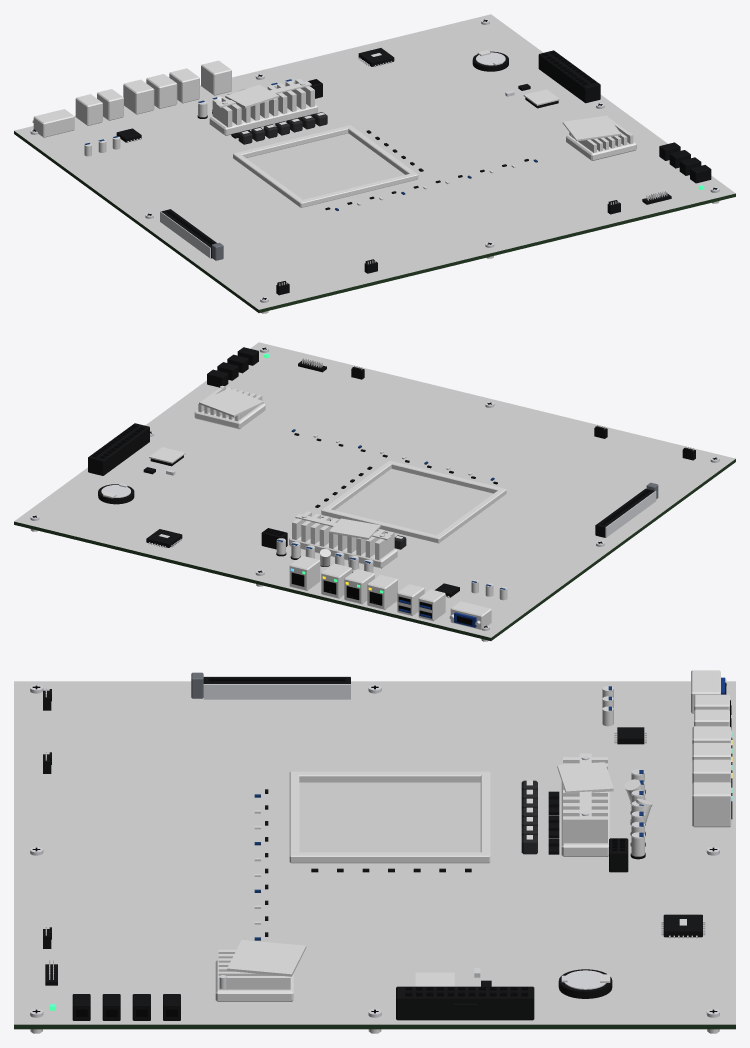
The model's file is asm_mainboard_ai_broken.glb.
3 views of the same model, one above another, from view 1: azimuth 30°, elevation 25°; view 2: azimuth 150°, elevation 25°; view 3: azimuth 270°, elevation 25° (orthographic). The views are drawn at different scales.
Parts seen in each view (by area): view 1: Board; view 2: Board; view 3: Board.
Boxes of the visible parts, box(x1,y1,x2,y2) form: Board: box(14, 14, 735, 312); Board: box(14, 342, 735, 640); Board: box(14, 670, 735, 1029).
Size of the model in its own units: 0.54 by 0.0408 by 0.48.
